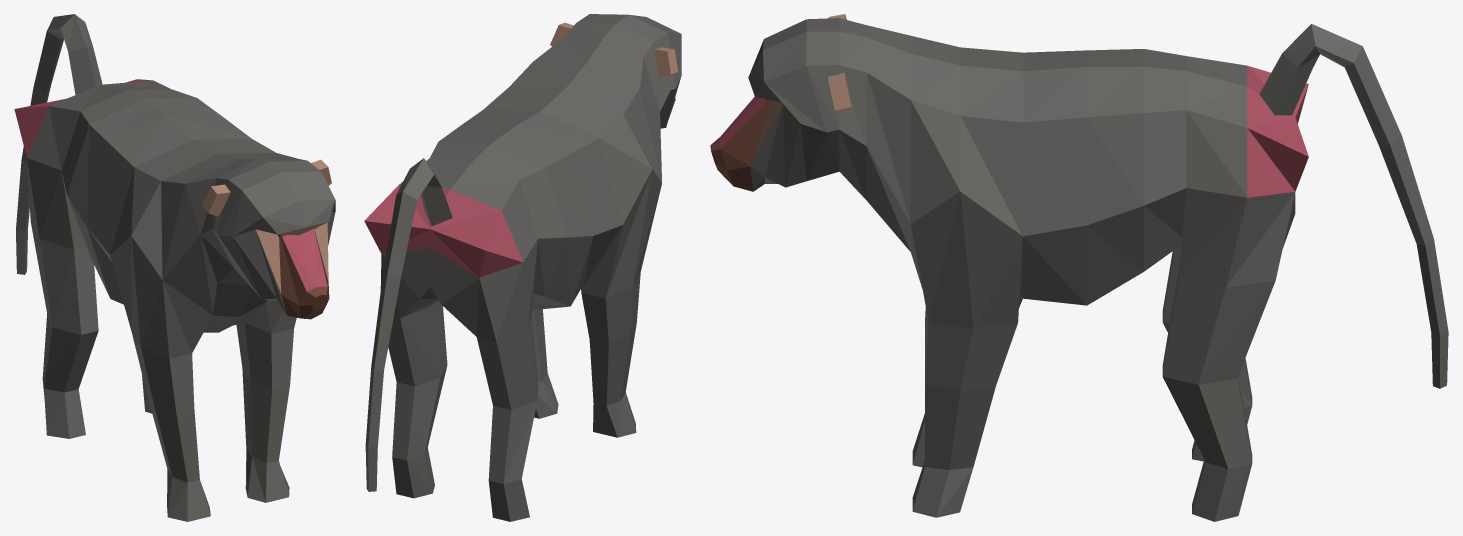
The model's file is macaque.glb.
3 views of the same model, side by side, from view 1: azimuth 30°, elevation 25°; view 2: azimuth 150°, elevation 25°; view 3: azimuth 270°, elevation 25° (orthographic). The views are drawn at different scales.
Parts seen in each view (by area): view 1: macaque; view 2: macaque; view 3: macaque.
Part boxes in pixels (x1,y1,x2,y2): macaque: (14, 14, 335, 521); macaque: (364, 14, 681, 521); macaque: (710, 14, 1448, 521).
Size of the model in its own units: 52.26 by 107 by 157.
